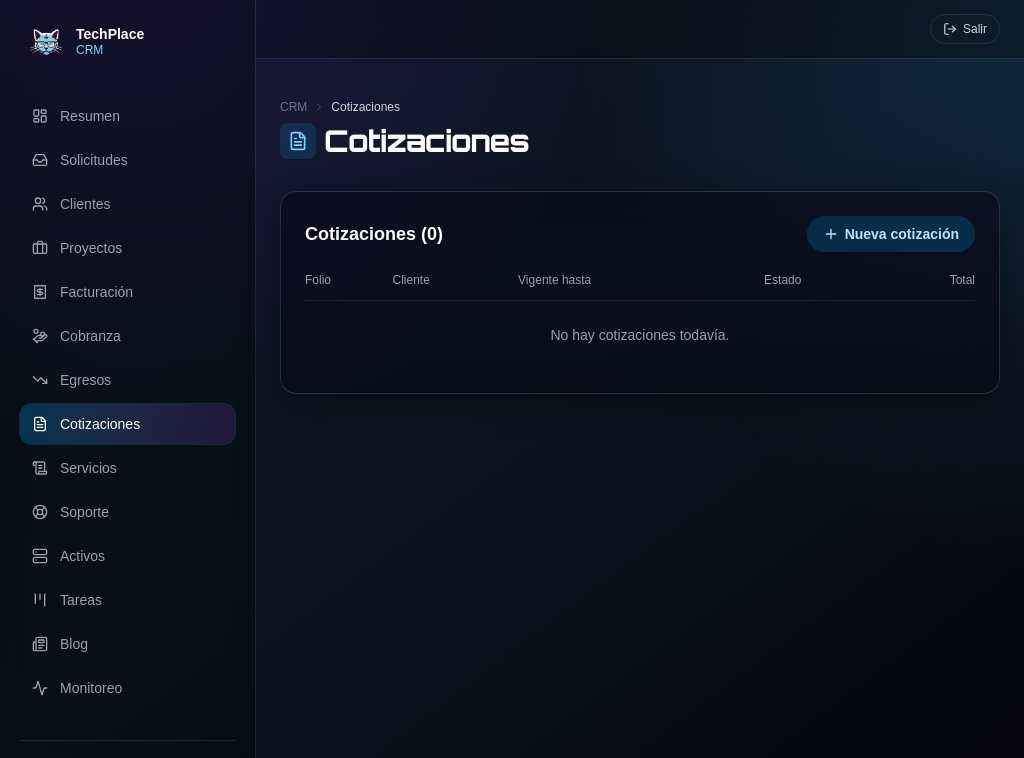
Scenario: CrmDashboard › switches to Tareas when that nav item is clicked
The image size is (1024, 758).
Click the button "Tareas": click(128, 600) left=20, top=580, right=235, bottom=620
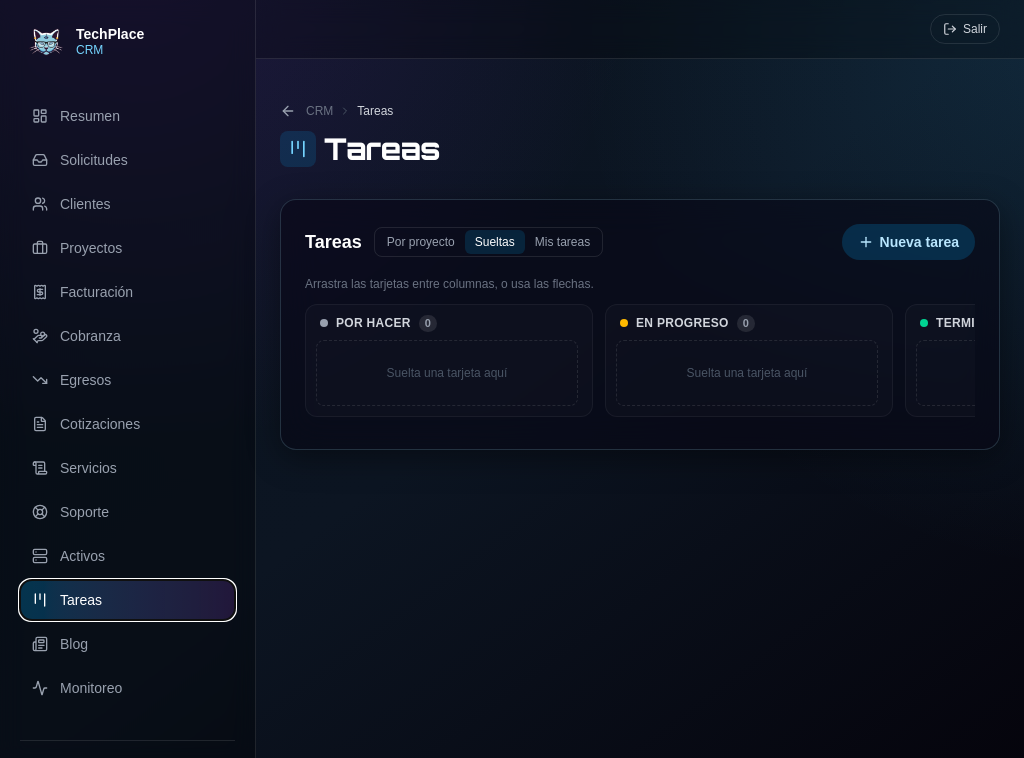
Check: the button "Nueva tarea" is shown, box left=842, top=224, right=975, bottom=260
